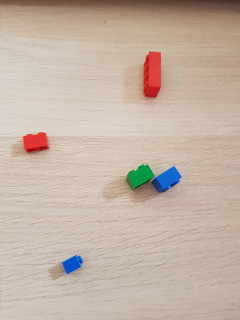1x1 blue: (61, 254, 84, 276)
1x2 red: (23, 132, 50, 152)
2x2 blue: (152, 165, 183, 192)
2x2 green: (126, 164, 155, 190)
2x4 red: (143, 51, 164, 99)
